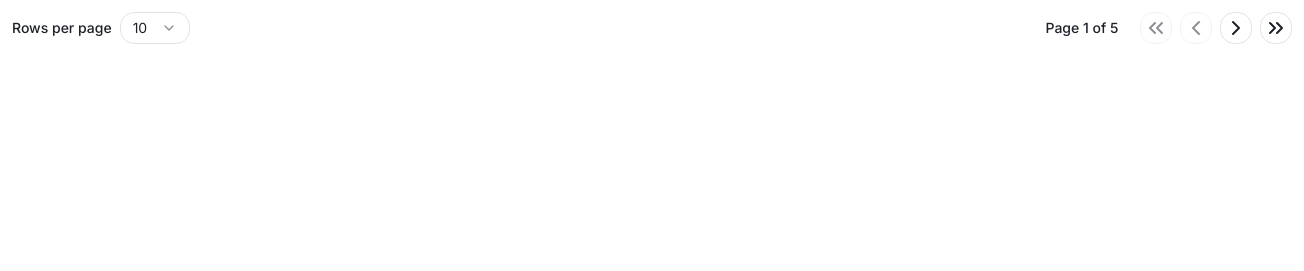
Scenario: DataTablePagination › should show correct page size options
Click the dropdown at (155, 28), box [120, 12, 190, 44]
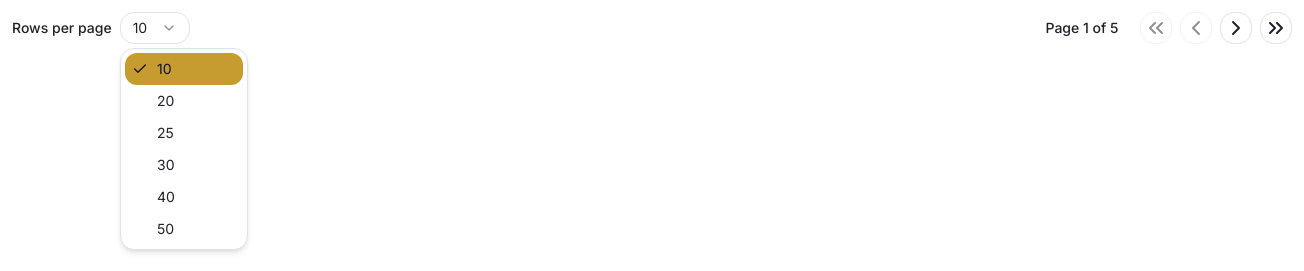
Expected: the text "20" is shown, [157, 91, 174, 111]
Expected: the text "25" is shown, [157, 123, 174, 143]
Expected: the text "30" is shown, [157, 155, 174, 175]
